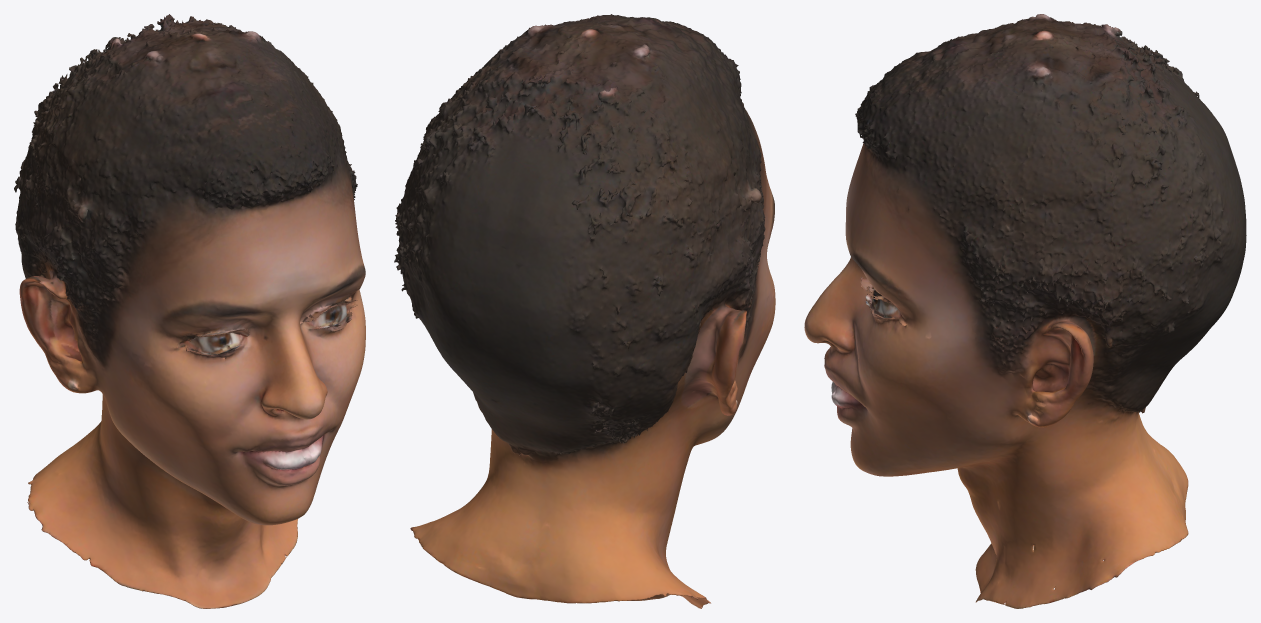
The model's file is VRNCA_4__0404022903_texture.glb.
3 renders of one model, left to right at view 1: azimuth 30°, elevation 25°; view 2: azimuth 150°, elevation 25°; view 3: azimuth 270°, elevation 25°, orthographic. The views are drawn at different scales.
Size of the model in its own units: 1.17 by 1.97 by 1.4.
1 material, 1 textured.
